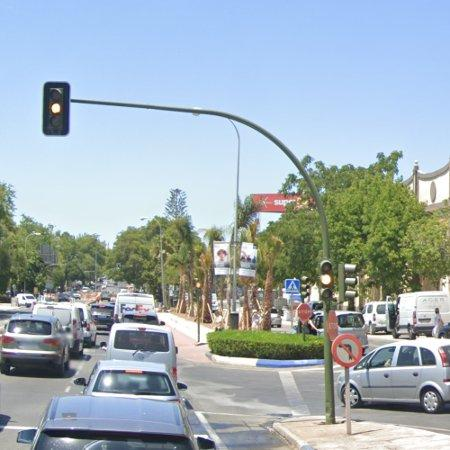traffic lights: (42, 82, 70, 136)
